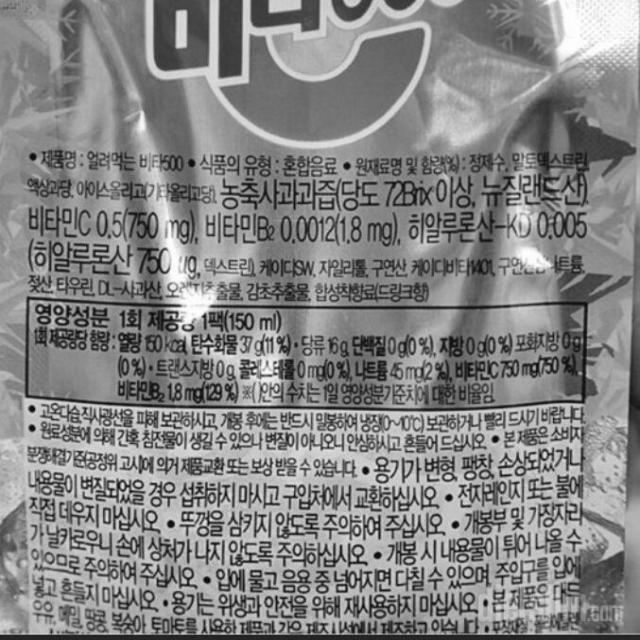Nutrition Label: (19, 296, 602, 412)
